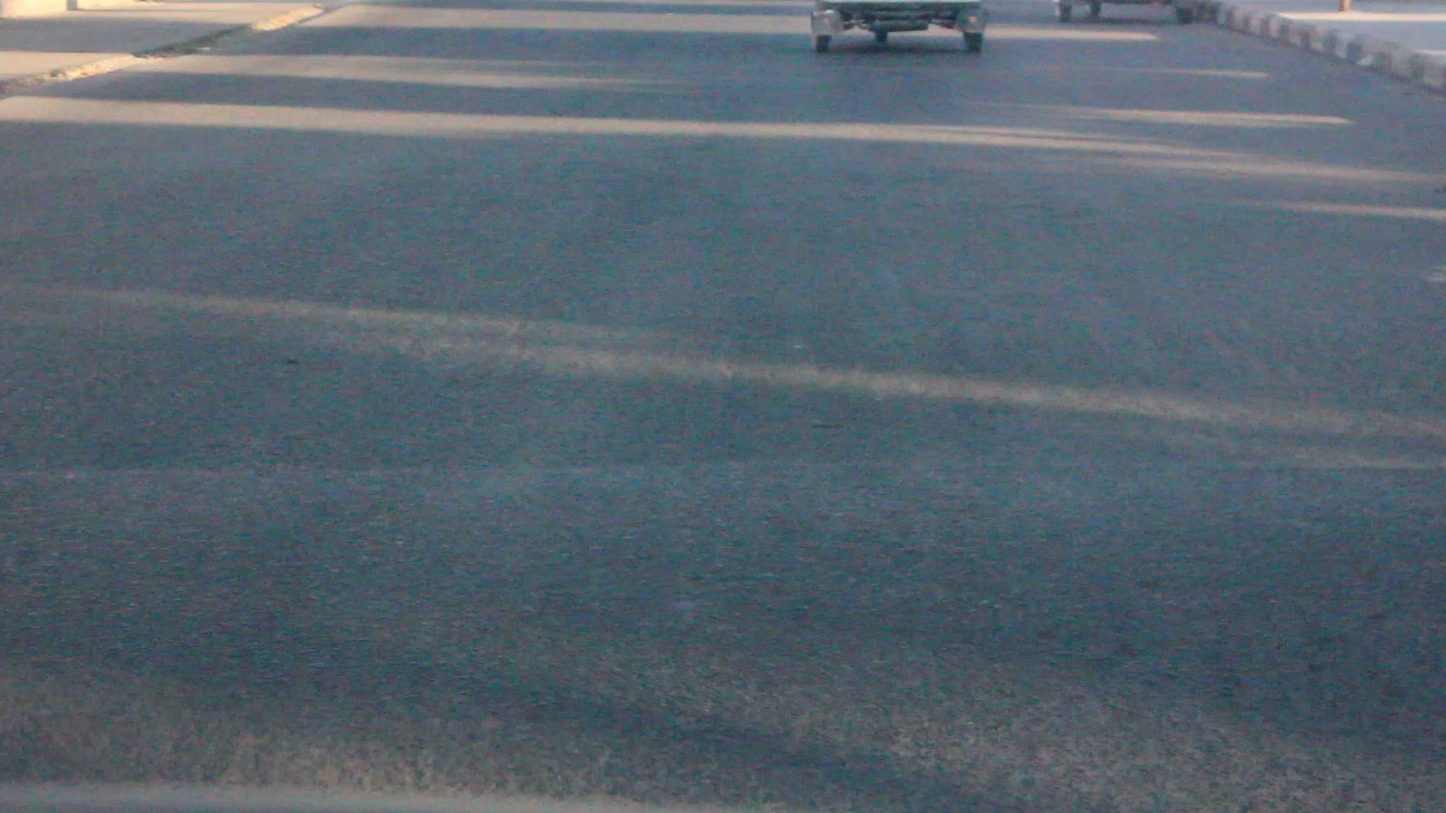Bump: (6, 472, 1446, 813)
